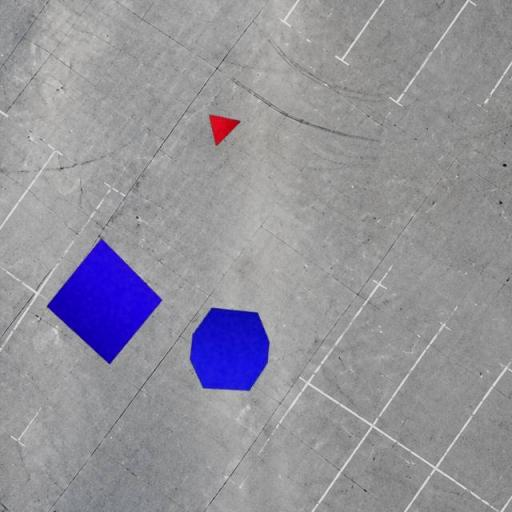BLUE_SQUARE: (46, 238, 163, 364)
